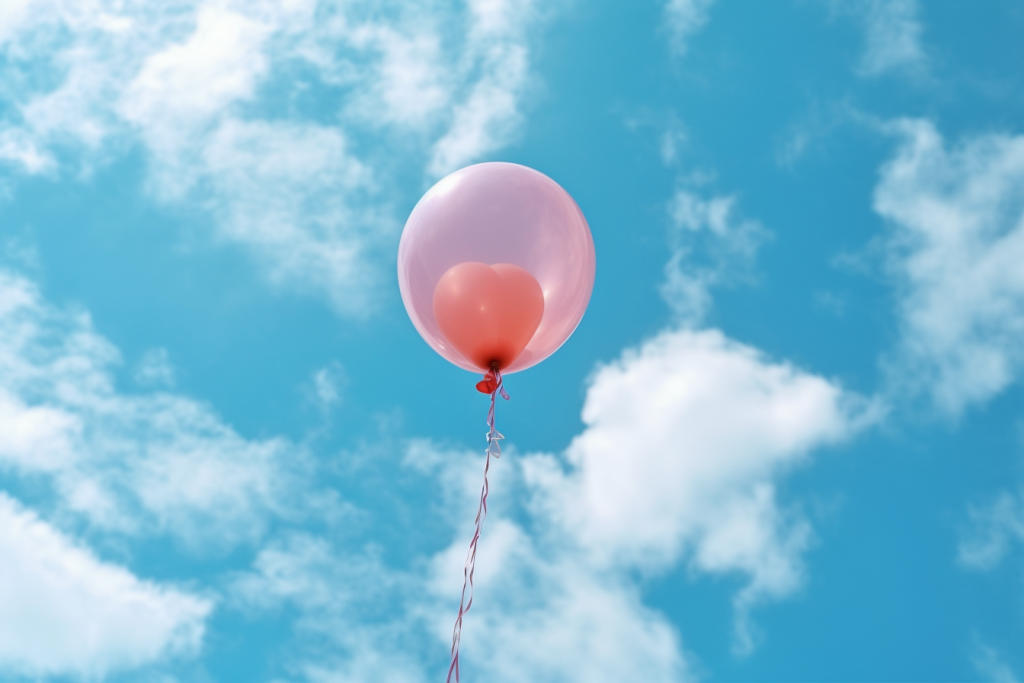balloon: (398, 163, 594, 673), (434, 263, 543, 377)
